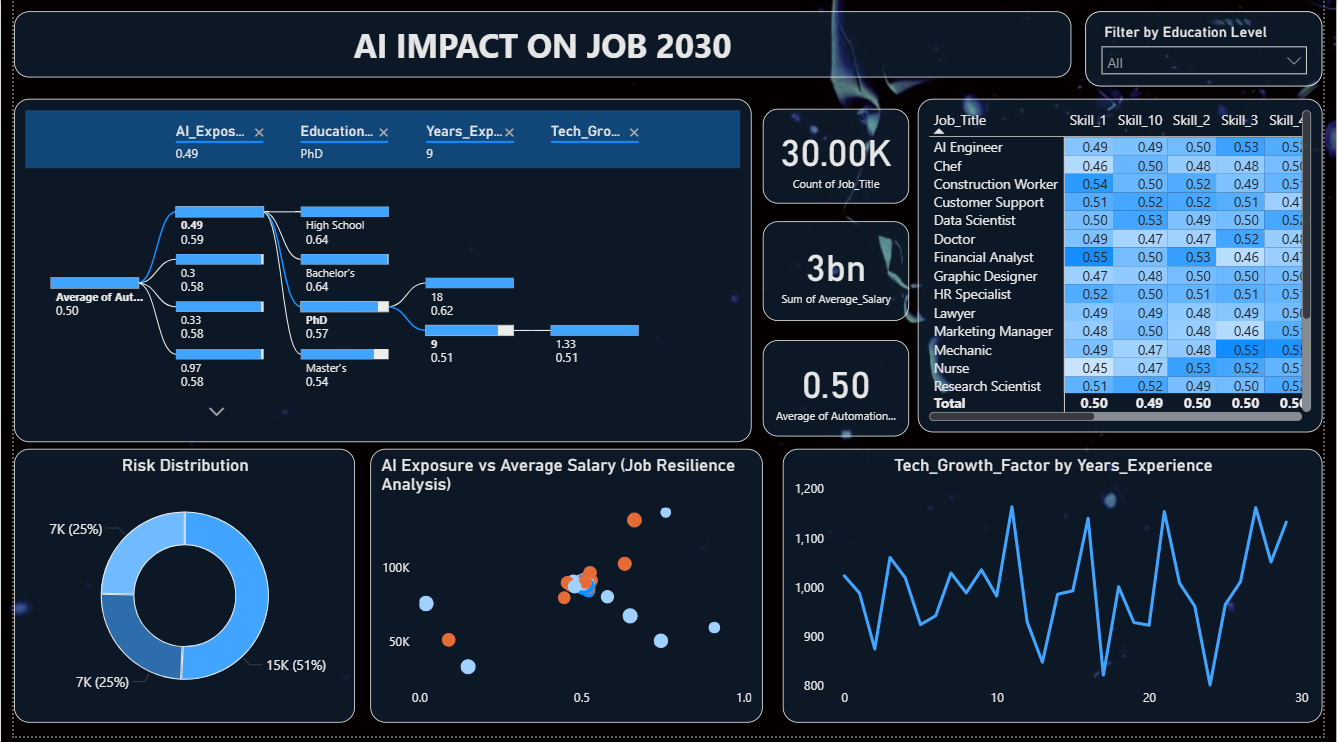

The page's visual inventory and layout, read from the dashboard file:
{"tool":"powerbi","page":{"name":"Page 1","canvas":[1280,720],"ordinal":0},"visuals":[{"type":"textbox","box":[0,11,1034.5,64.8],"z":0},{"type":"lineChart","title":"Tech_Growth_Factor by Years_Experience","fields":{"Category":["AI_Impact_on_Jobs_2030.Years_Experience"],"Y":["Sum(AI_Impact_on_Jobs_2030.Tech_Growth_Factor)"]},"box":[752,439,528.3,267.8],"z":1000},{"type":"donutChart","title":"Risk Distribution","fields":{"Y":["CountNonNull(AI_Impact_on_Jobs_2030.Risk_Category)"],"Category":["AI_Impact_on_Jobs_2030.Risk_Category"]},"box":[0,439,333.8,267.8],"z":2000},{"type":"pivotTable","fields":{"Rows":["AI_Impact_on_Jobs_2030.Job_Title"],"Columns":["AI_Impact_on_Jobs_2030.Skill Name"],"Values":["Avg(AI_Impact_on_Jobs_2030.Skill level)"]},"box":[884.1,96.6,396.2,326.5],"z":3000},{"type":"decompositionTreeVisual","fields":{"Analyze":["Avg(AI_Impact_on_Jobs_2030.Automation_Probability_2030)"],"ExplainBy":["AI_Impact_on_Jobs_2030.AI_Exposure_Index","AI_Impact_on_Jobs_2030.Education_Level","AI_Impact_on_Jobs_2030.Years_Experience","AI_Impact_on_Jobs_2030.Tech_Growth_Factor"]},"box":[0,96.6,721.5,336.3],"z":4000},{"type":"card","fields":{"Values":["Avg(AI_Impact_on_Jobs_2030.Average_Salary)"]},"box":[732.5,216.4,143.1,97.8],"z":5000},{"type":"card","fields":{"Values":["CountNonNull(AI_Impact_on_Jobs_2030.Job_Title)"]},"box":[732.5,106.4,143.1,92.9],"z":6000},{"type":"card","fields":{"Values":["Avg(AI_Impact_on_Jobs_2030.Automation_Probability_2030)"]},"box":[732.5,332.6,143.1,94.2],"z":7000},{"type":"slicer","fields":{"Values":["AI_Impact_on_Jobs_2030.Education_Level"]},"box":[1048,11,232.3,73.4],"z":8000},{"type":"scatterChart","title":"AI Exposure vs Average Salary (Job Resilience Analysis)","fields":{"Size":["Avg(AI_Impact_on_Jobs_2030.Tech_Growth_Factor)"],"X":["Avg(AI_Impact_on_Jobs_2030.AI_Exposure_Index)"],"Y":["Avg(AI_Impact_on_Jobs_2030.Average_Salary)"],"Series":["AI_Impact_on_Jobs_2030.Risk_Category"],"Category":["AI_Impact_on_Jobs_2030.Job_Title"]},"box":[348.5,439,384,267.8],"z":9000}]}

Visuals, with their boxes in screenshot pixels (x1, y1, x2, y2), scaled from the page's 1280x720 canvas onto the 1338x742 screenshot:
textbox: x1=0, y1=11, x2=1081, y2=78
"Tech_Growth_Factor by Years_Experience" lineChart: x1=786, y1=452, x2=1337, y2=728
"Risk Distribution" donutChart: x1=0, y1=452, x2=349, y2=728
pivotTable - AI_Impact_on_Jobs_2030.Job_Title x AI_Impact_on_Jobs_2030.Skill Name: x1=924, y1=100, x2=1337, y2=436
decompositionTreeVisual - Avg(AI_Impact_on_Jobs_2030.Automation_Probability_2030) x AI_Impact_on_Jobs_2030.AI_Exposure_Index: x1=0, y1=100, x2=754, y2=446
card - Avg(AI_Impact_on_Jobs_2030.Average_Salary): x1=766, y1=223, x2=915, y2=324
card - CountNonNull(AI_Impact_on_Jobs_2030.Job_Title): x1=766, y1=110, x2=915, y2=205
card - Avg(AI_Impact_on_Jobs_2030.Automation_Probability_2030): x1=766, y1=343, x2=915, y2=440
slicer - AI_Impact_on_Jobs_2030.Education_Level: x1=1095, y1=11, x2=1337, y2=87
"AI Exposure vs Average Salary (Job Resilience Analysis)" scatterChart: x1=364, y1=452, x2=766, y2=728
